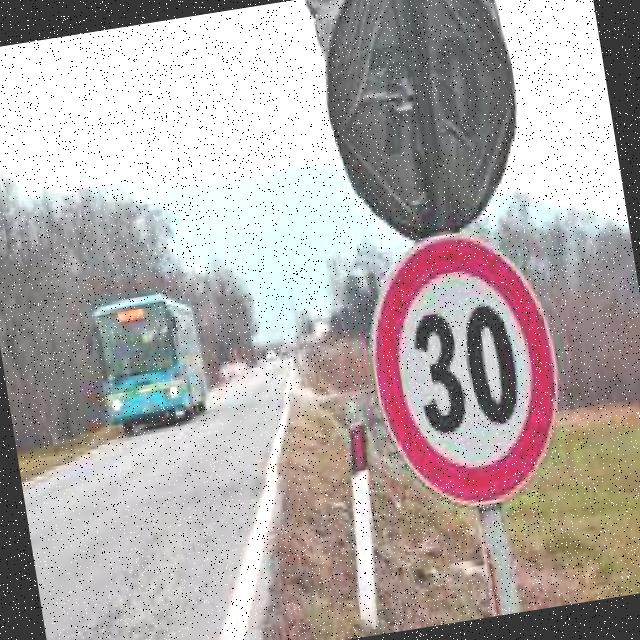Ograniczenie predkosci do 30: (358, 221, 570, 518)
